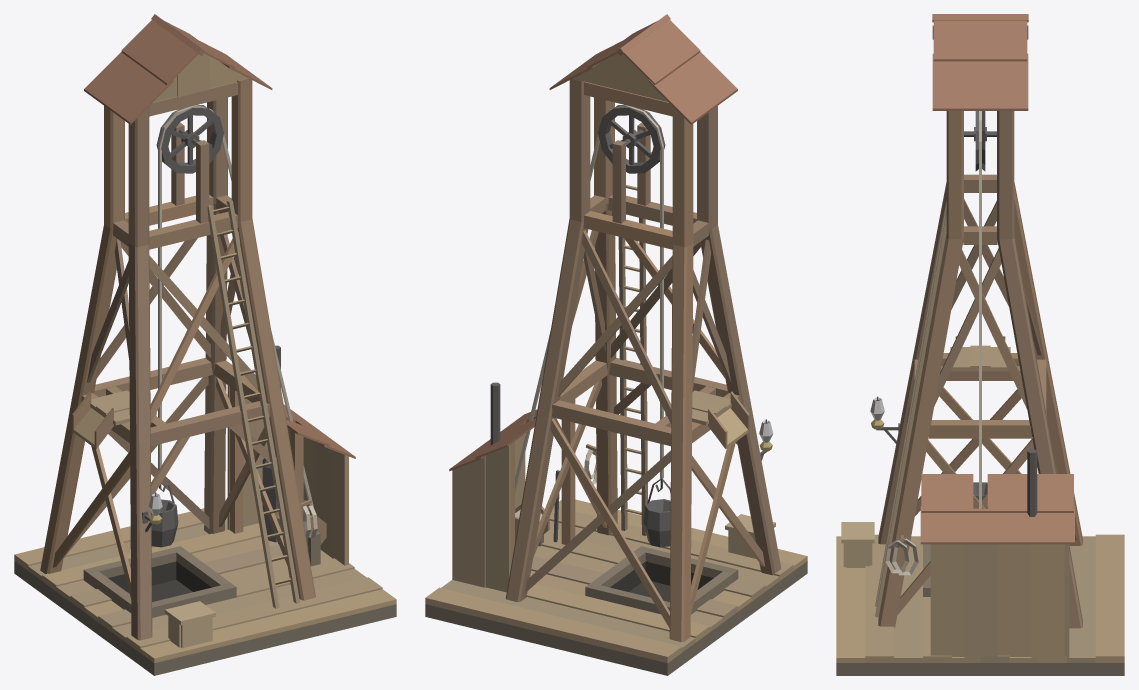
File: tent_1.glb
The picture shows the model from 3 angles, left to right: view 1: azimuth 30°, elevation 25°; view 2: azimuth 150°, elevation 25°; view 3: azimuth 270°, elevation 25°; orthographic projection. The views are drawn at different scales.
Visible parts, largest first — view 1: tent_1; view 2: tent_1; view 3: tent_1.
Boxes of the visible parts, x1,y1,x2,y2 form: tent_1: [14, 14, 396, 675]; tent_1: [425, 14, 807, 675]; tent_1: [836, 14, 1124, 675].
Bounding box in the file's own units: 4.4 × 9.9 × 4.4.
